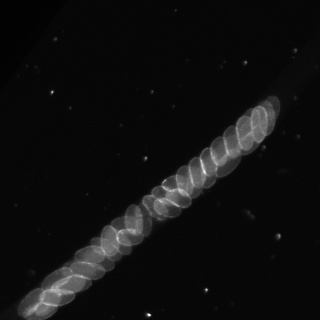embryo: (52, 275, 92, 295), (42, 267, 73, 292), (235, 114, 254, 154), (93, 236, 122, 262), (17, 288, 42, 318), (239, 125, 264, 155), (107, 227, 133, 255), (249, 105, 267, 143), (216, 149, 241, 176), (70, 261, 104, 280), (73, 245, 104, 265), (100, 225, 119, 257), (40, 289, 75, 306), (124, 204, 143, 235), (188, 156, 205, 189), (151, 185, 180, 204), (223, 125, 240, 157), (175, 165, 192, 197), (259, 102, 275, 136), (153, 198, 180, 218), (210, 136, 227, 167), (137, 202, 152, 237), (200, 147, 217, 177), (165, 189, 191, 208), (112, 216, 140, 233), (265, 95, 280, 125), (118, 229, 143, 246), (95, 255, 116, 272), (141, 195, 155, 218), (188, 178, 203, 198), (161, 175, 176, 191), (203, 173, 216, 188)
